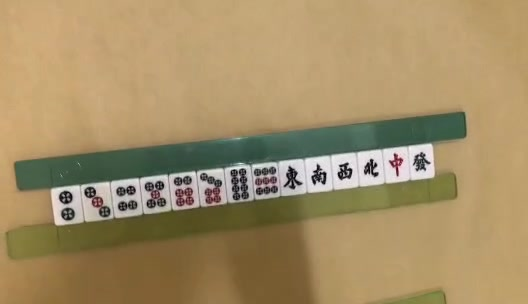1z: (282, 163, 303, 192)
2p: (58, 186, 76, 222)
2z: (306, 165, 330, 186)
3p: (85, 185, 111, 219)
3z: (334, 165, 353, 182)
4p: (115, 185, 140, 215)
4z: (362, 156, 382, 178)
5p: (141, 179, 167, 210)
6p: (172, 175, 197, 207)
6z: (414, 152, 433, 172)
7p: (199, 171, 223, 205)
7z: (388, 151, 404, 176)
8p: (230, 167, 252, 203)
9p: (251, 166, 279, 198)
